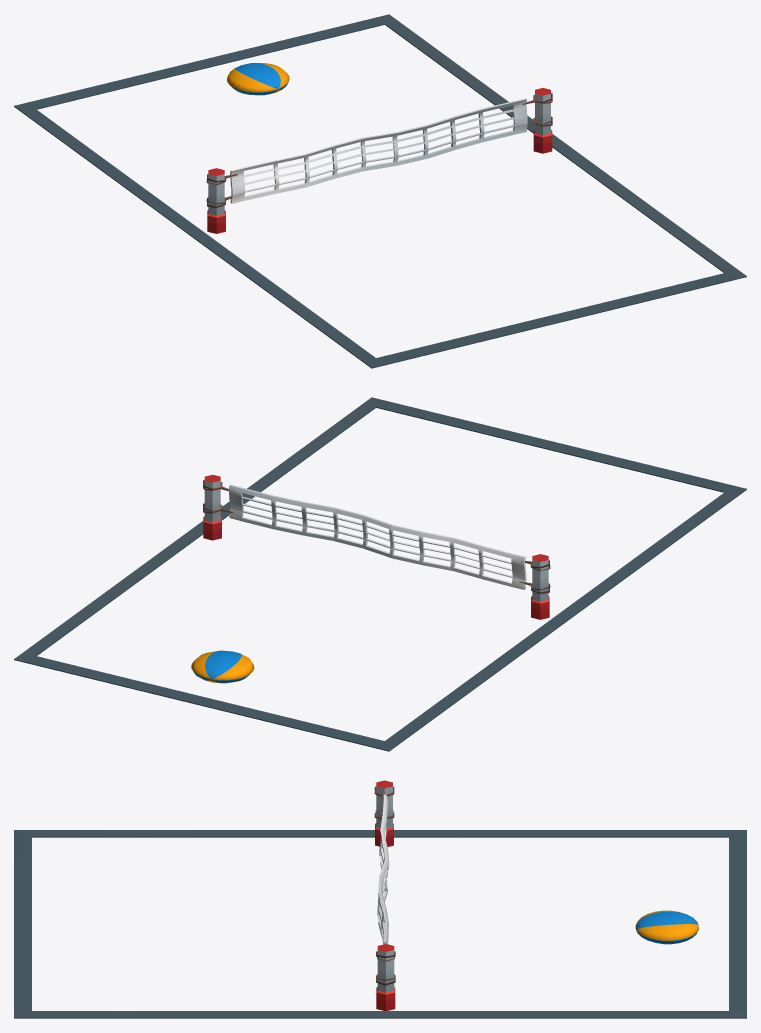
File: PLAY_ARENA_LV2.FBX
The picture shows the model from 3 angles, top to bottom: view 1: azimuth 30°, elevation 25°; view 2: azimuth 150°, elevation 25°; view 3: azimuth 270°, elevation 25°; orthographic projection. The views are drawn at different scales.
Visible parts, largest first — view 1: LV_2; view 2: LV_2; view 3: LV_2.
Boxes of the visible parts, box(x1,y1,x2,y2) form: LV_2: box(14, 14, 746, 368); LV_2: box(14, 397, 746, 751); LV_2: box(14, 780, 746, 1018).
Size of the model in its own units: 13.24 by 2.08 by 21.87.
1 material, 1 textured.
